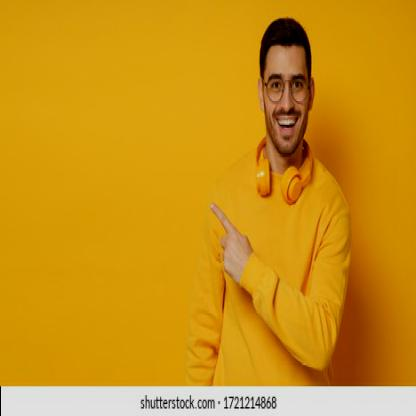Right: (204, 192, 254, 295)
